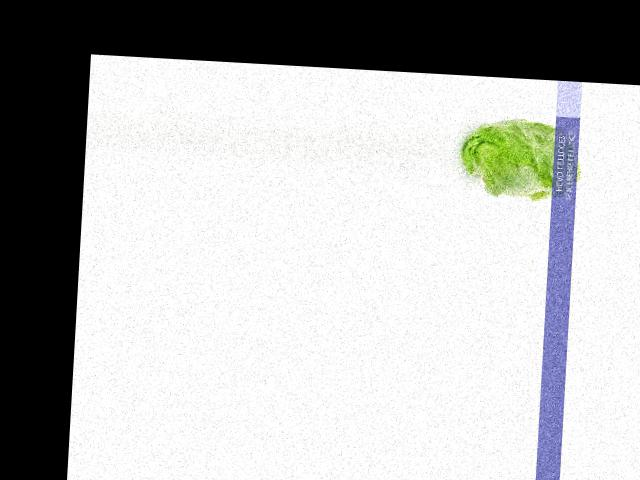lettuce: (454, 118, 583, 203)
